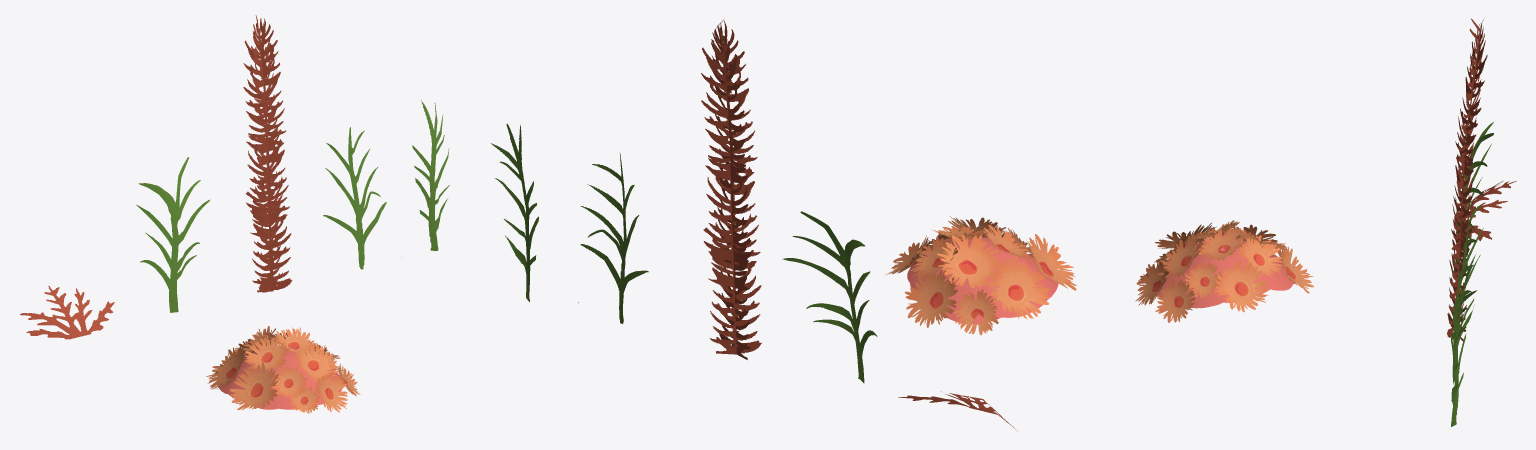
Rendered from seaweed.FBX.
3 views of the same model, side by side, from view 1: azimuth 30°, elevation 25°; view 2: azimuth 150°, elevation 25°; view 3: azimuth 270°, elevation 25° (orthographic). The views are drawn at different scales.
Parts seen in each view (by area): view 1: seaweed_6, seaweed_5, seaweed_1, seaweed_4, seaweed_3, seaweed_2; view 2: seaweed_6, seaweed_5, seaweed_1, seaweed_3, seaweed_2, seaweed_4; view 3: seaweed_6, seaweed_5, seaweed_2, seaweed_3, seaweed_4, seaweed_1.
Part boxes in pixels (box(x1,y1,x2,y2)): seaweed_6: box(206, 326, 360, 413); seaweed_5: box(243, 15, 292, 292); seaweed_1: box(136, 157, 210, 312); seaweed_4: box(20, 286, 114, 339); seaweed_3: box(323, 127, 401, 269); seaweed_2: box(412, 100, 449, 250); seaweed_6: box(885, 216, 1076, 335); seaweed_5: box(701, 19, 761, 359); seaweed_1: box(782, 211, 877, 383); seaweed_3: box(578, 153, 648, 323); seaweed_2: box(491, 124, 538, 301); seaweed_4: box(898, 391, 1017, 430); seaweed_6: box(1135, 220, 1313, 322); seaweed_5: box(1447, 18, 1487, 341); seaweed_2: box(1451, 254, 1476, 426); seaweed_3: box(1451, 219, 1483, 384); seaweed_4: box(1454, 181, 1516, 241); seaweed_1: box(1453, 122, 1493, 272).
Size of the model in its own units: 113 by 73.23 by 79.1.
